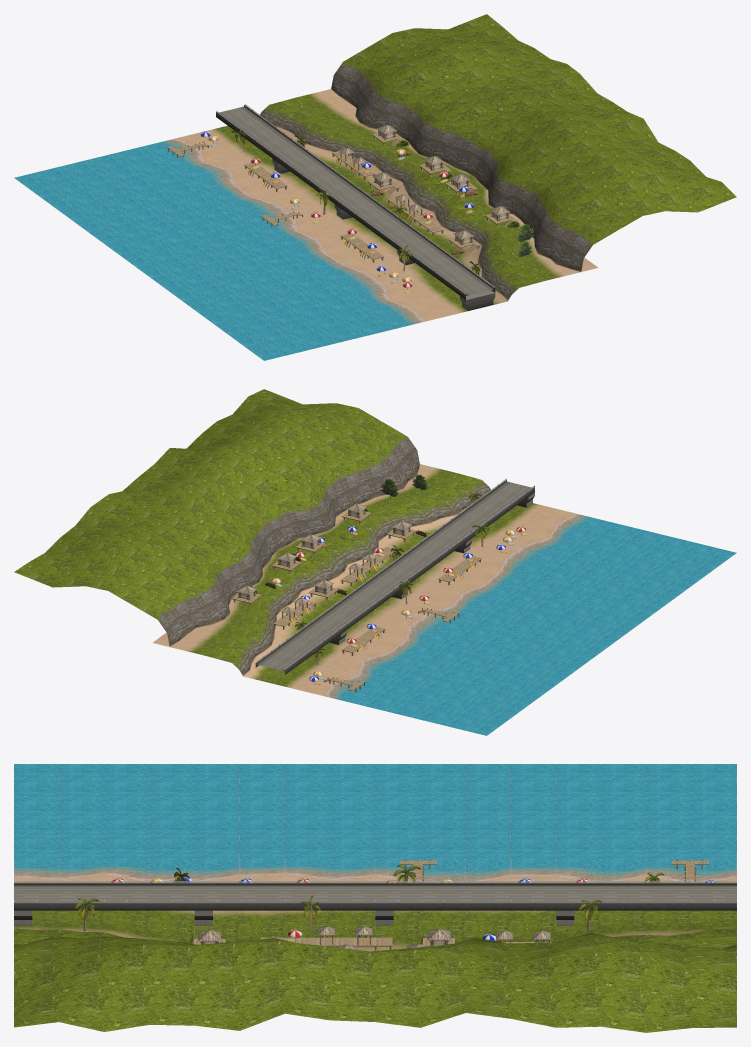
Rendered from Track014_Low.FBX.
3 renders of one model, top to bottom at view 1: azimuth 30°, elevation 25°; view 2: azimuth 150°, elevation 25°; view 3: azimuth 270°, elevation 25°, orthographic. The views are drawn at different scales.
Visible parts, largest first — view 1: ground, Rock, Road (×2); view 2: ground, Rock, Road (×2); view 3: ground, Rock, Road (×2), Plank.
Part boxes in pixels (<box>): ground: <box>14,89,598,360</box>; Rock: <box>331,14,736,271</box>; Road (×2): <box>216,104,495,299</box>; ground: <box>152,464,736,735</box>; Rock: <box>14,389,419,646</box>; Road (×2): <box>255,478,534,674</box>; ground: <box>14,764,736,951</box>; Rock: <box>14,933,736,1032</box>; Road (×2): <box>14,880,736,910</box>; Plank: <box>260,937,392,950</box>.
Size of the model in its own units: 6904 by 1113 by 6300.
